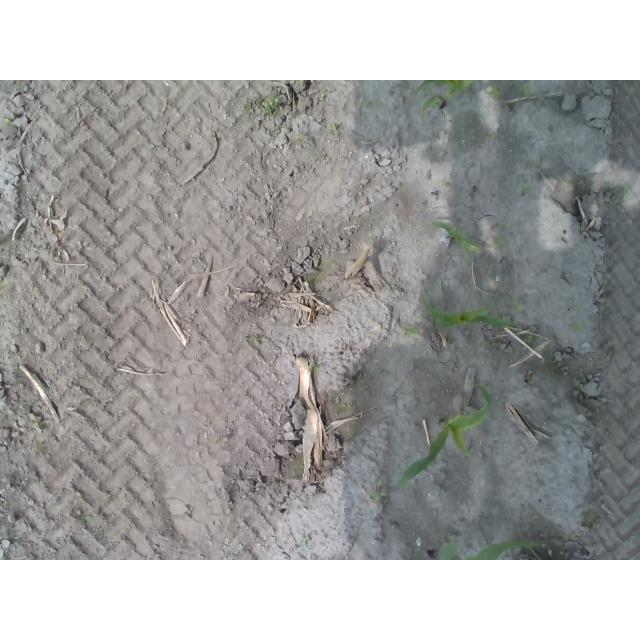Maize: (399, 382, 493, 488), (422, 297, 515, 330), (437, 537, 547, 560), (415, 81, 472, 116), (433, 218, 482, 254)
Weeds: (243, 96, 290, 117), (368, 479, 388, 504), (0, 112, 20, 129), (28, 412, 42, 432), (488, 85, 505, 99), (490, 237, 506, 249), (405, 324, 419, 337), (571, 322, 585, 334), (521, 83, 532, 96), (0, 282, 10, 295), (296, 135, 306, 144), (523, 334, 533, 343), (296, 80, 305, 86)
